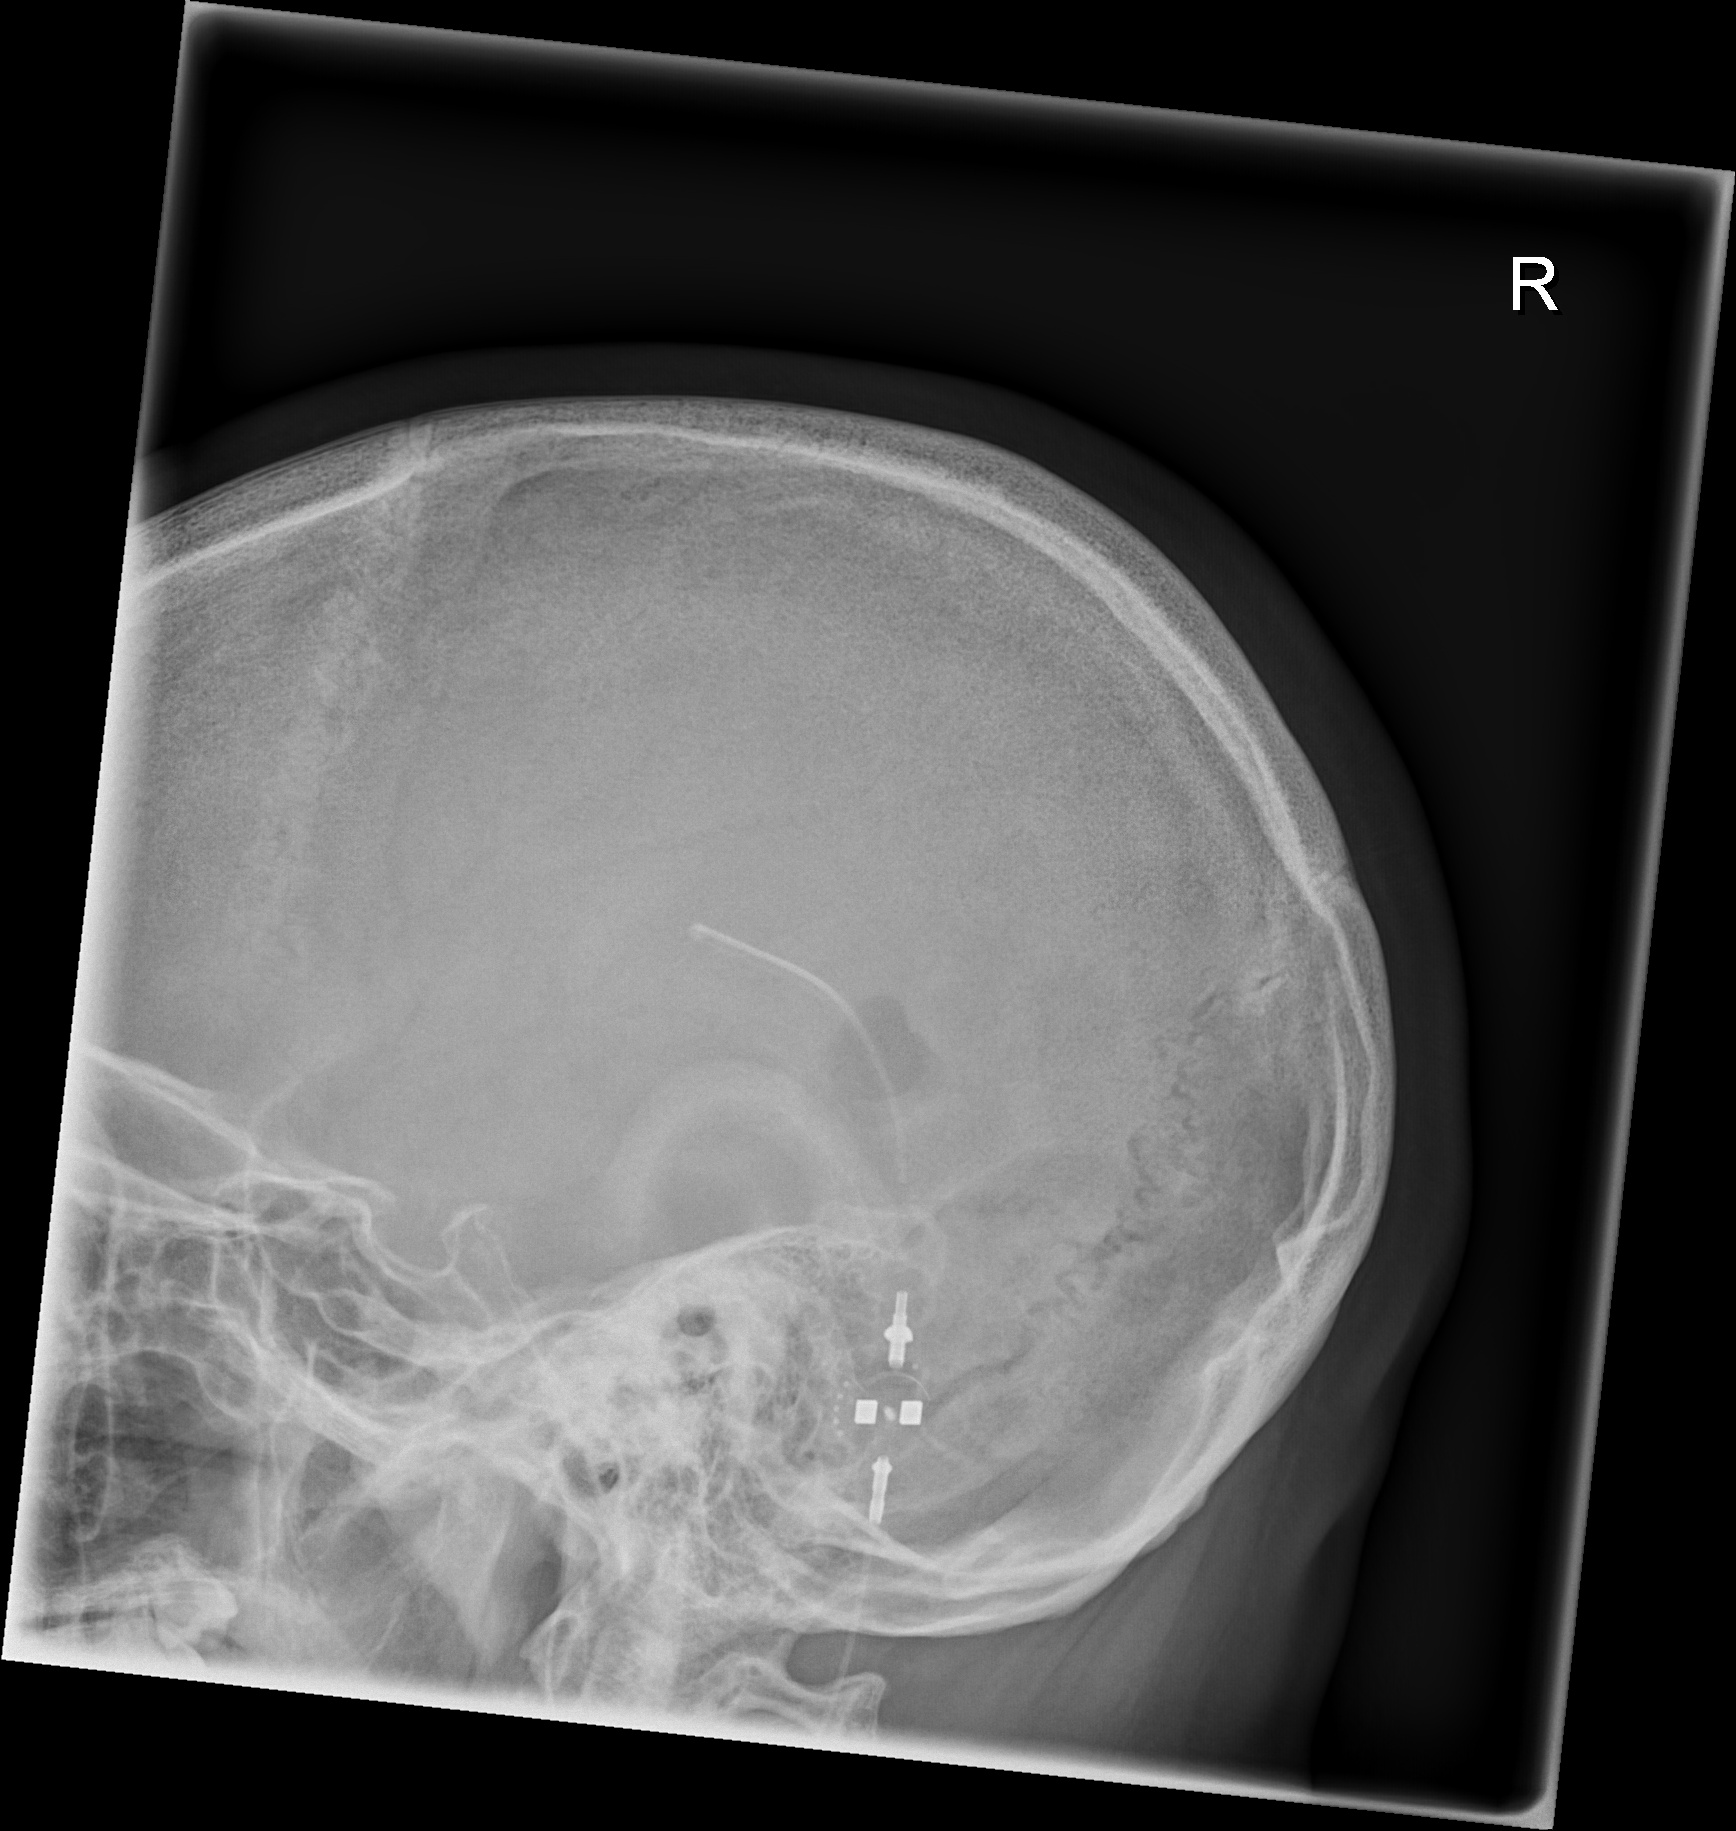Sophysa Polaris: (822, 1327, 953, 1479)
